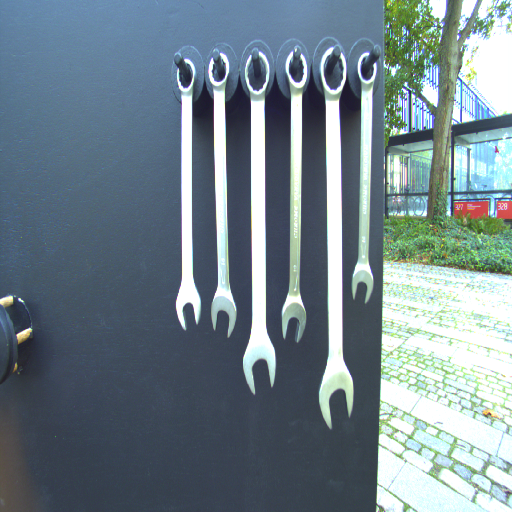bottom: (316, 361, 356, 430), (242, 329, 278, 398), (172, 277, 204, 331), (210, 286, 238, 339), (280, 292, 307, 345), (349, 259, 375, 306)
top: (319, 46, 347, 104), (244, 49, 271, 101), (284, 46, 309, 98), (355, 46, 382, 94), (173, 55, 199, 98), (206, 50, 230, 89)
